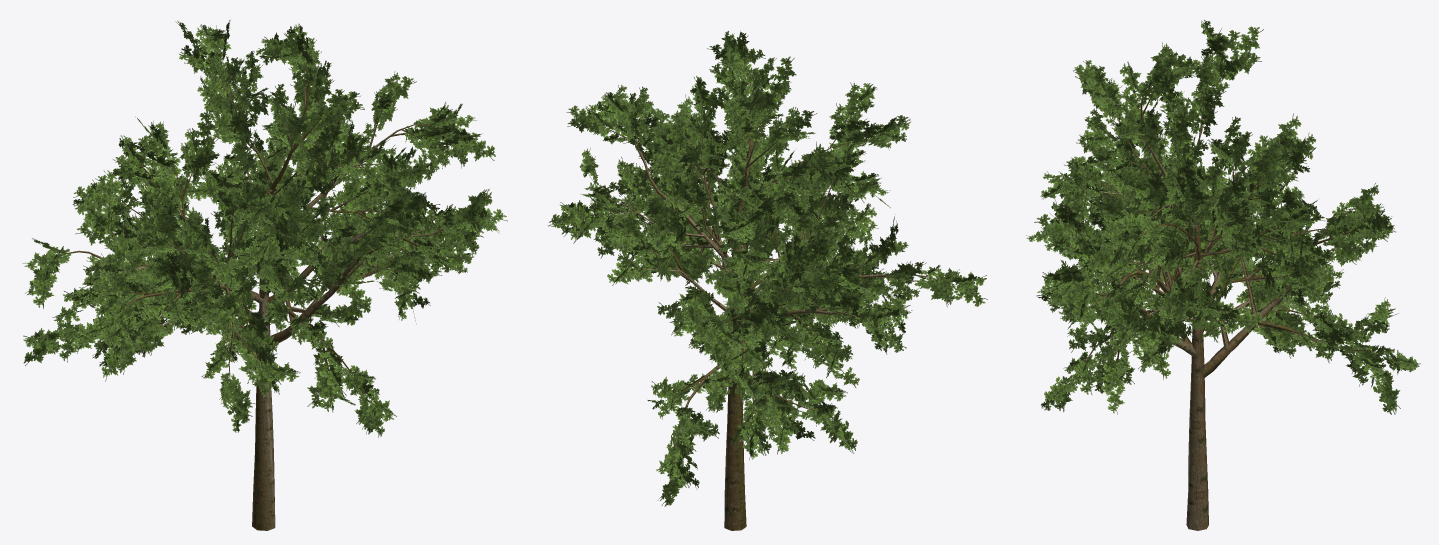
3 views of the same model, side by side, from view 1: azimuth 30°, elevation 25°; view 2: azimuth 150°, elevation 25°; view 3: azimuth 270°, elevation 25° (orthographic). The views are drawn at different scales.
Parts seen in each view (by area): view 1: branches, branches.001; view 2: branches, branches.001; view 3: branches, branches.001.
Part boxes in pixels (<box>): branches: <box>22,20,507,437</box>; branches.001: <box>45,48,468,530</box>; branches: <box>548,30,987,506</box>; branches.001: <box>585,62,955,530</box>; branches: <box>1026,19,1420,414</box>; branches.001: <box>1054,56,1390,530</box>.
Bounding box in the file's own units: 15.42 × 18.12 × 13.36.
Materials: 2 (2 with a texture image).
